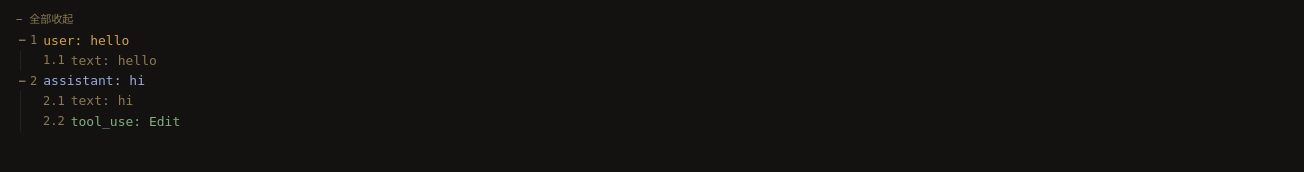
DetailTocTree › showExpandAllToggle offers a header button toggling all parents at once
Expected: the button "text: hello" is shown, [71,51,1292,71]
Step 1. Click the button "− 全部收起" → point(45, 20), box [12,12,77,28]
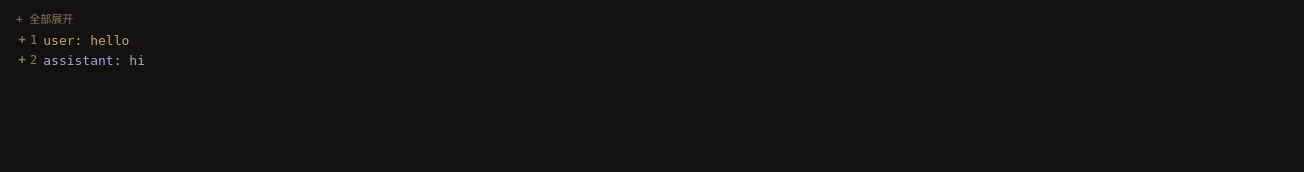
Expected: the button "text: hello" is gone
Expected: the button "tool_use: Edit" is gone
// Expand-all restores every child in one click.
Step 2. Click the button "+ 全部展开" → point(45, 20), box [12,12,77,28]
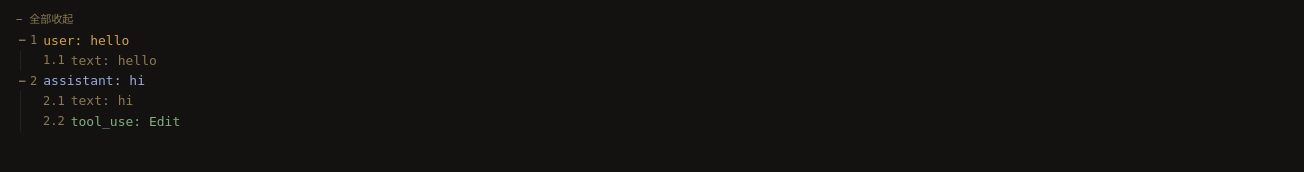
Expected: the button "text: hello" is shown, [71,51,1292,71]
Expected: the button "tool_use: Edit" is shown, [71,112,1292,132]
